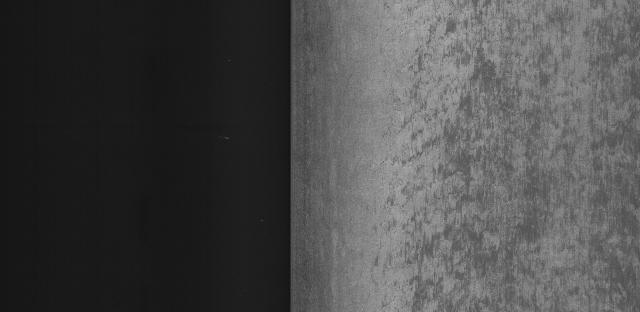silk_spot: (371, 6, 640, 296)
